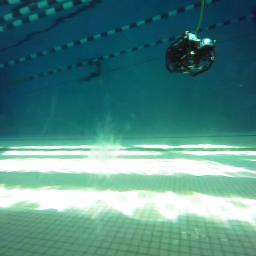front: (165, 30, 217, 78)
